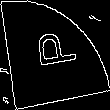P_W: (30, 33, 80, 77)
